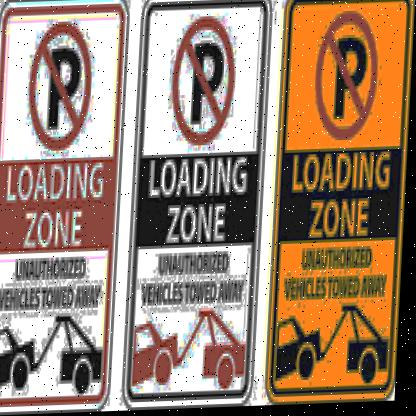No parking: (163, 20, 244, 150), (314, 13, 386, 141), (30, 24, 90, 150)
